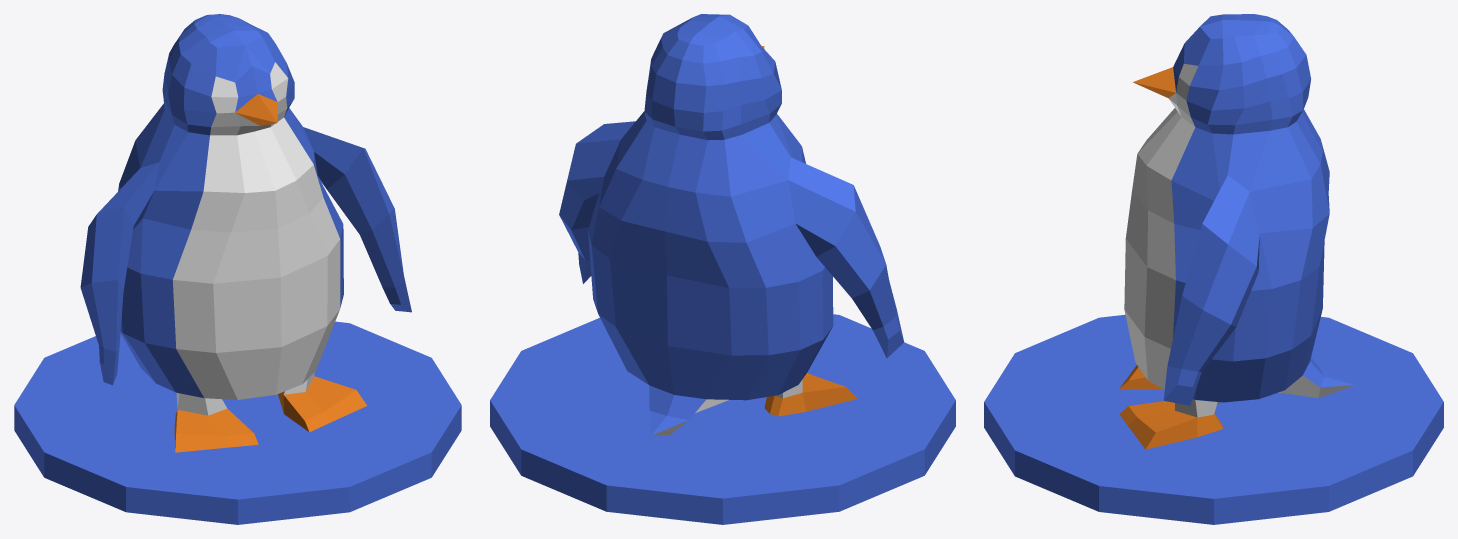
File: pawn_penguin.glb
3 renders of one model, left to right at view 1: azimuth 30°, elevation 25°; view 2: azimuth 150°, elevation 25°; view 3: azimuth 270°, elevation 25°, orthographic. The views are drawn at different scales.
Parts seen in each view (by area): view 1: Pinguin, Socle.Pinguin; view 2: Pinguin, Socle.Pinguin; view 3: Pinguin, Socle.Pinguin.
Part boxes in pixels (x1,y1,x2,y2): Pinguin: (80, 14, 411, 452); Socle.Pinguin: (14, 321, 461, 524); Pinguin: (559, 14, 904, 435); Socle.Pinguin: (490, 314, 955, 524); Pinguin: (1119, 14, 1355, 449); Socle.Pinguin: (984, 314, 1443, 524).
Size of the model in its own units: 4 by 3.91 by 4.
